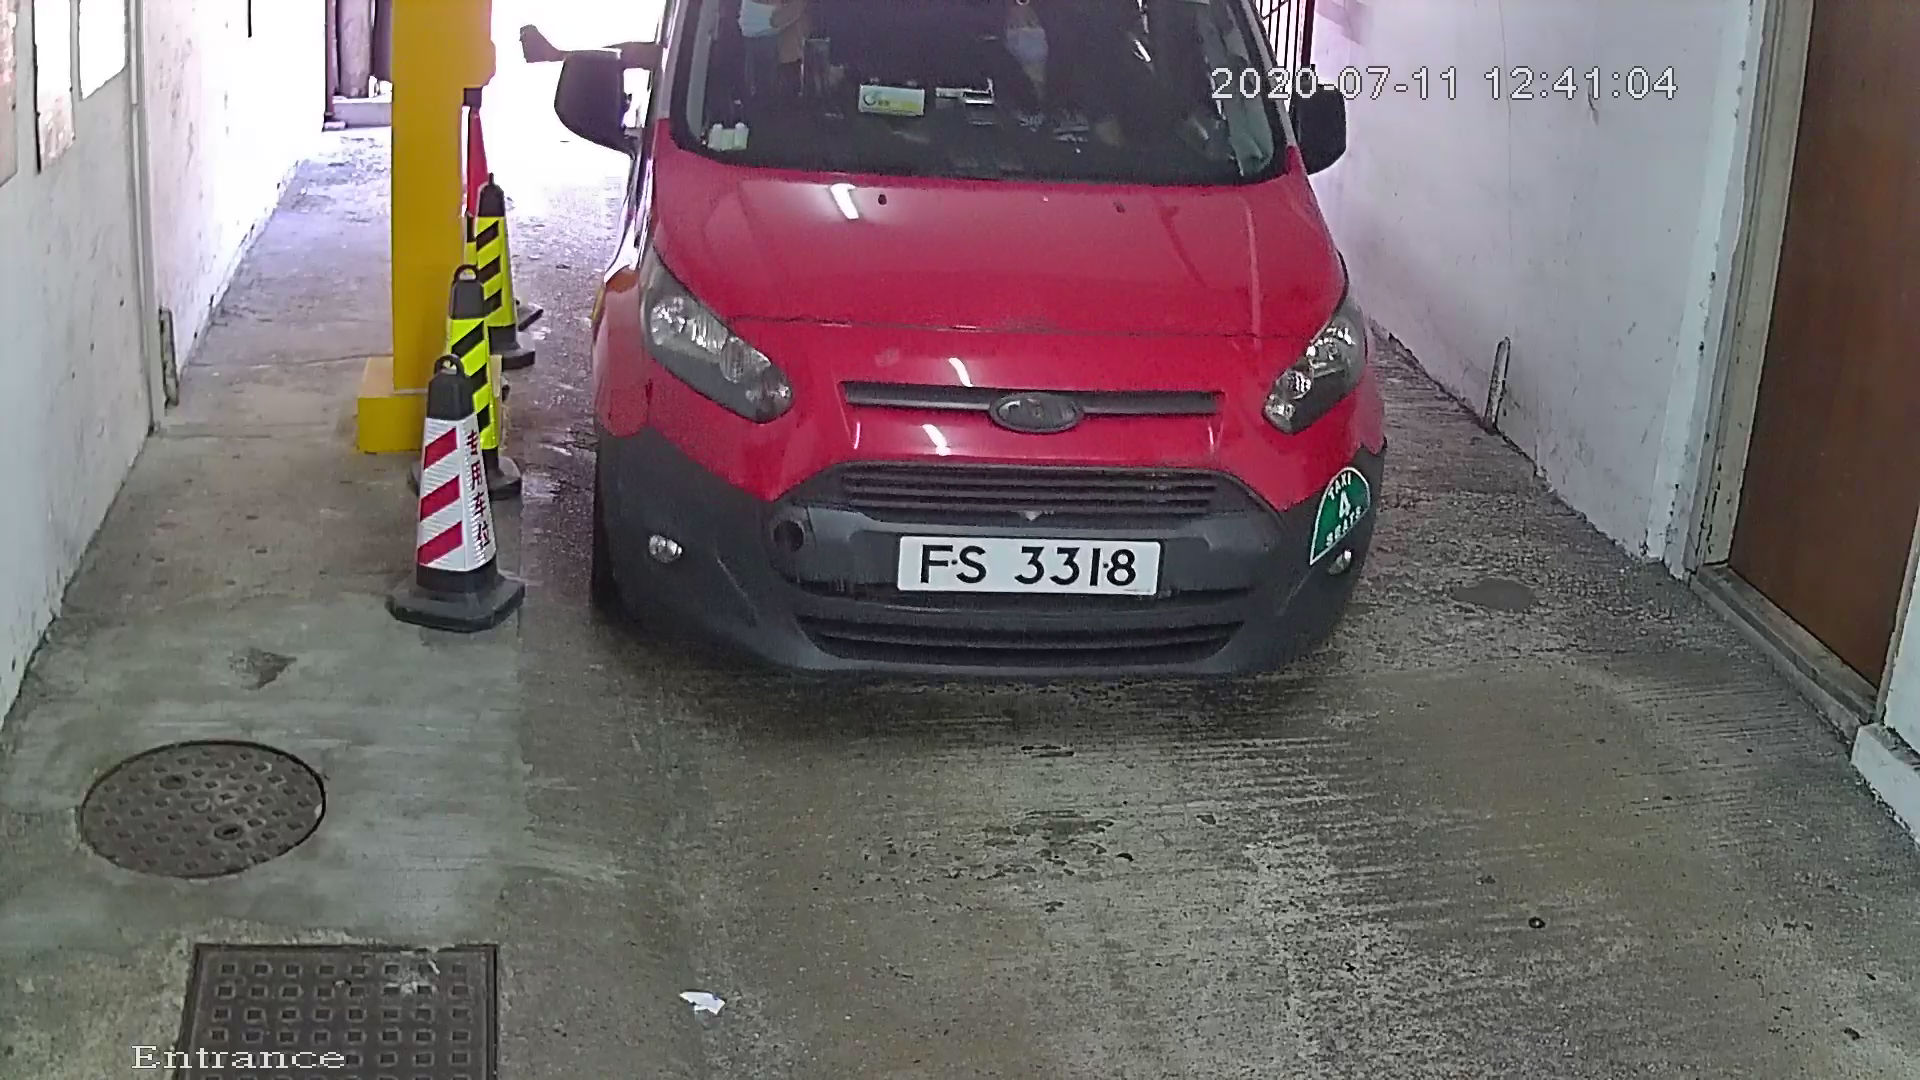taxi: (522, 1, 1427, 731)
taxi_mark: (1296, 443, 1393, 582)
